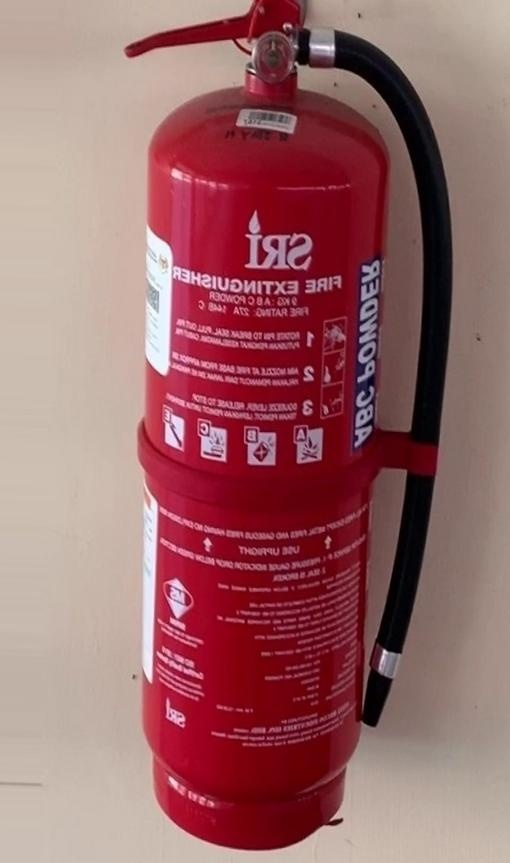fire_extinguisher: (123, 0, 454, 852)
